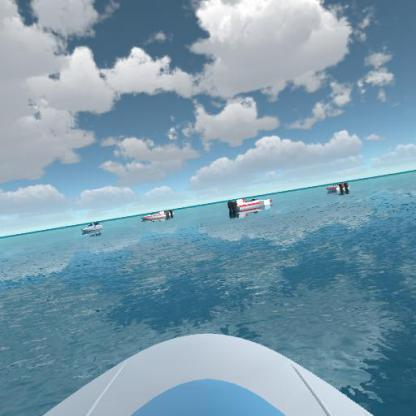usv1: (79, 217, 106, 237)
usv3: (224, 193, 276, 214), (139, 206, 178, 222), (320, 177, 352, 196)
